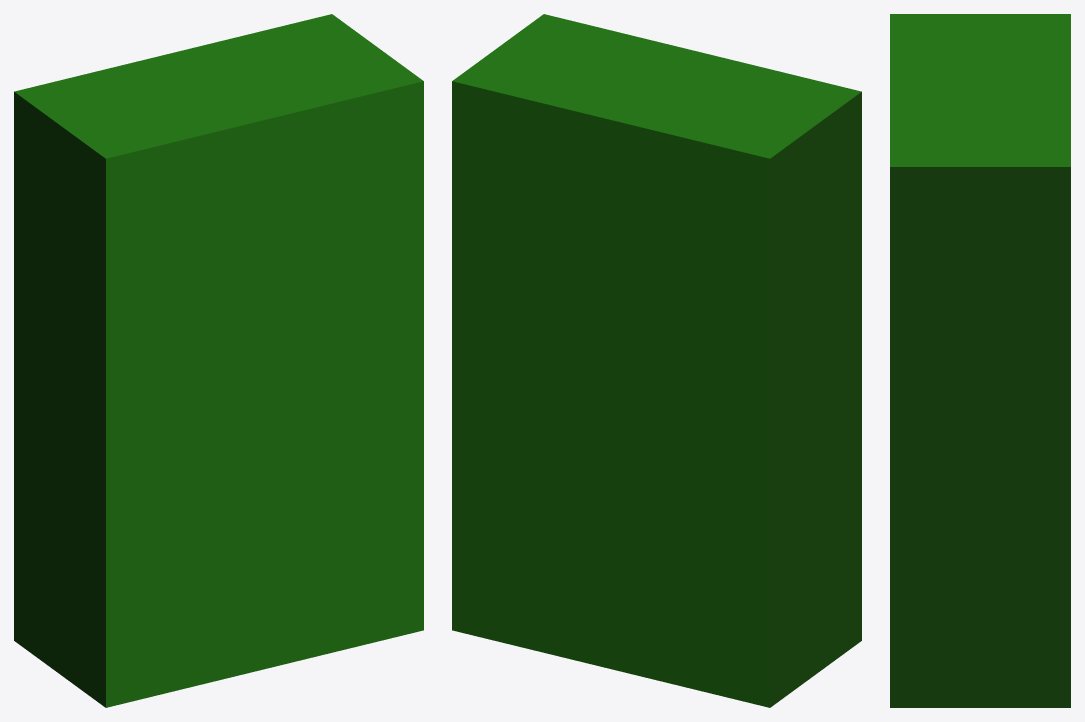
File: book_7.gltf
3 renders of one model, left to right at view 1: azimuth 30°, elevation 25°; view 2: azimuth 150°, elevation 25°; view 3: azimuth 270°, elevation 25°, orthographic.
Visible parts, largest first — view 1: cuboid; view 2: cuboid; view 3: cuboid.
Boxes of the visible parts, x1=… form: cuboid: x1=14, y1=14, x2=423, y2=707; cuboid: x1=452, y1=14, x2=861, y2=707; cuboid: x1=890, y1=14, x2=1070, y2=707.
Size of the model in its own units: 0.125 by 0.2062 by 0.0625.
1 material, 1 textured.
